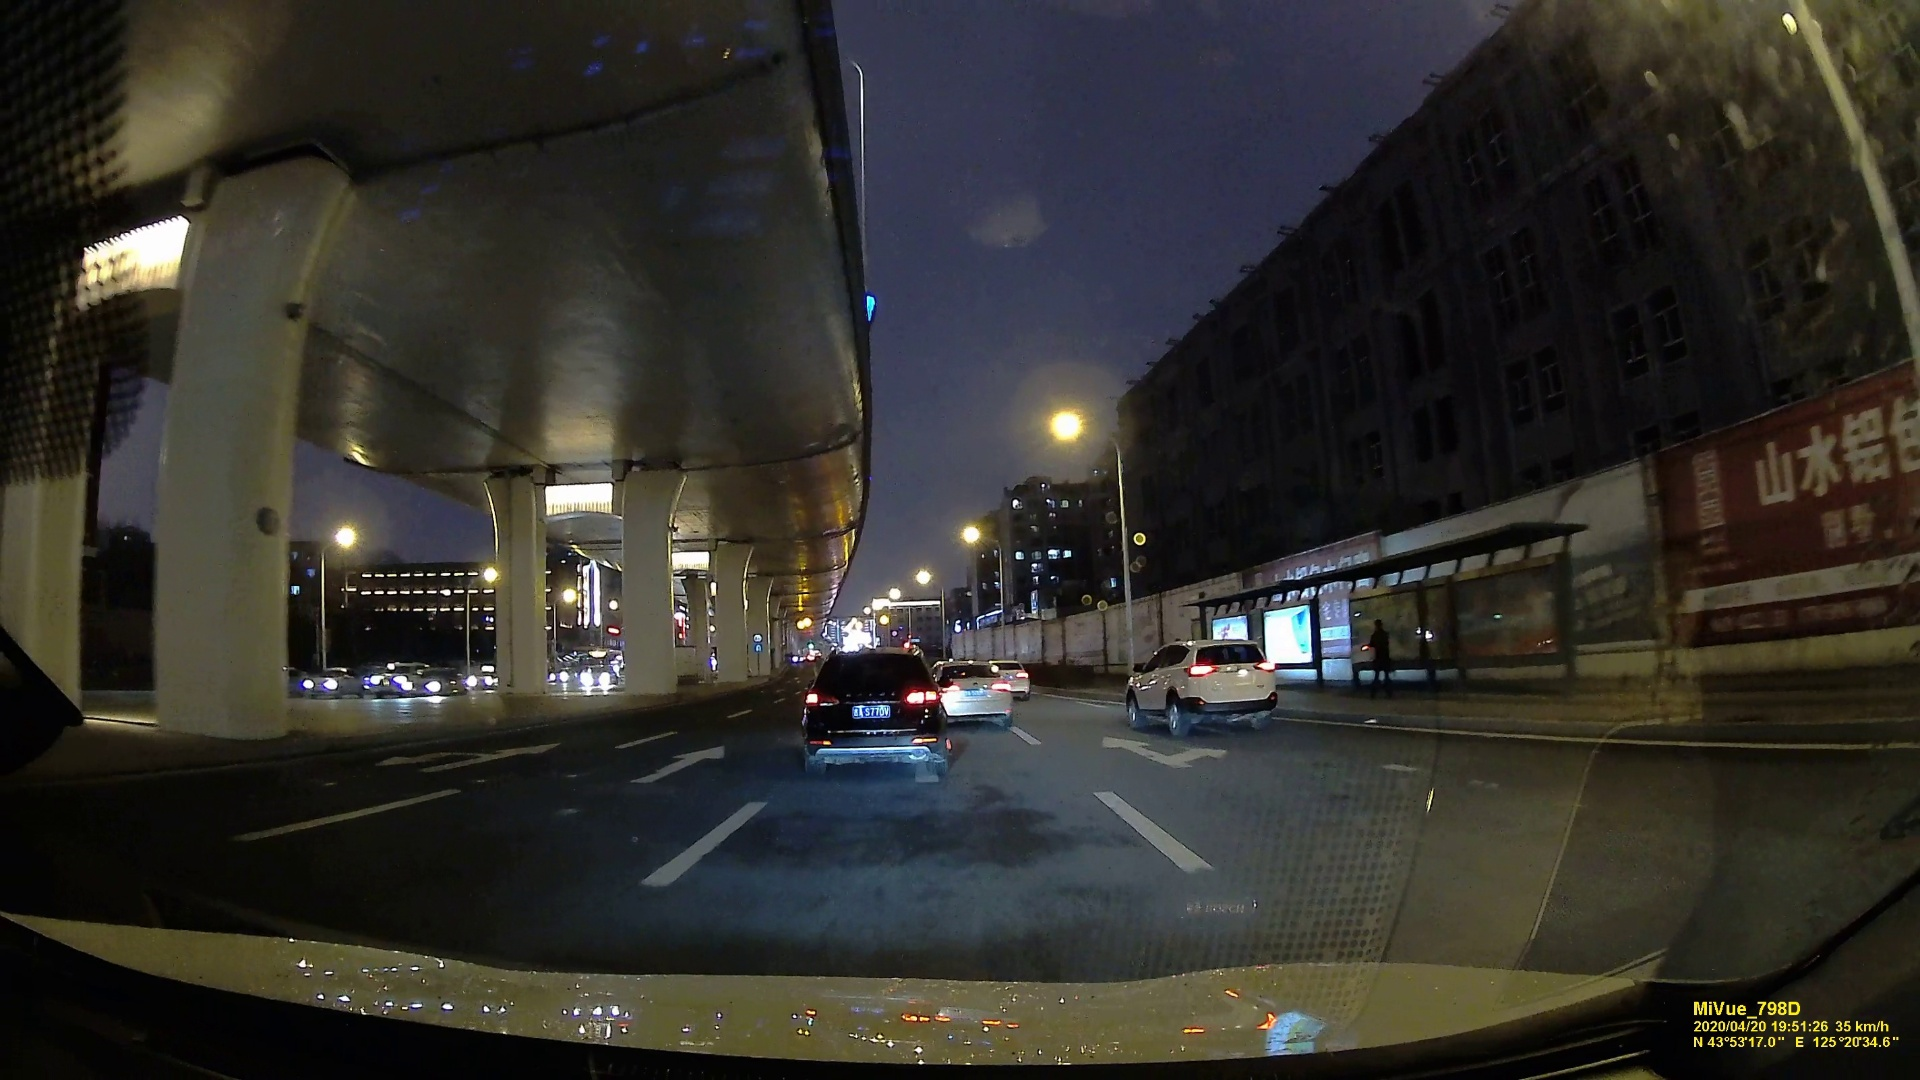person: (1364, 615, 1397, 690)
vehicle: (800, 643, 957, 780), (1126, 635, 1285, 730), (934, 657, 1013, 726), (300, 666, 365, 698), (409, 670, 460, 695), (363, 669, 410, 694)
